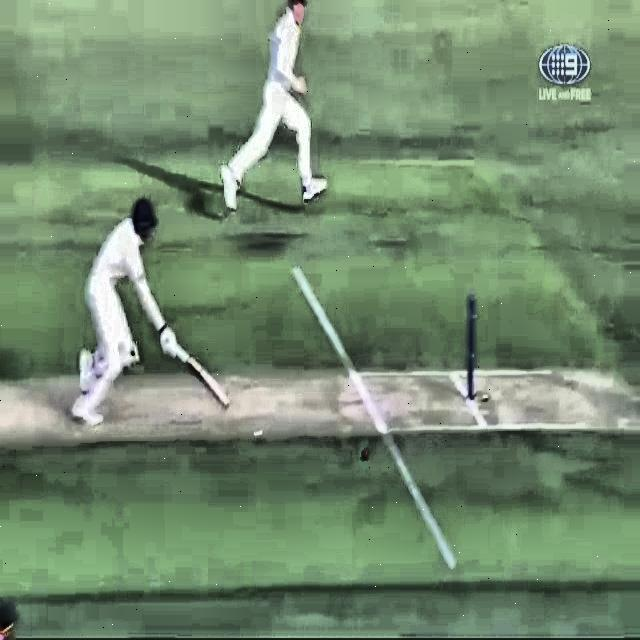Bat: (153, 328, 234, 412)
Pitch_Line: (290, 263, 458, 572)
Undis_Wicket: (463, 295, 483, 404)
